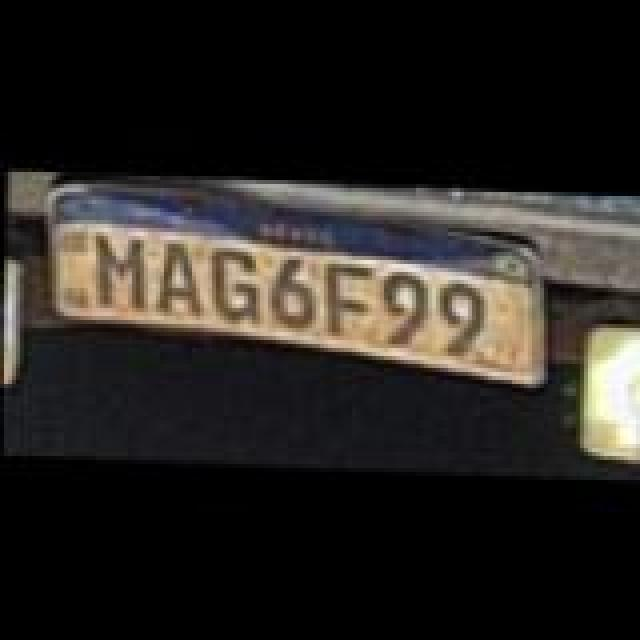6: (262, 246, 322, 322)
9: (432, 272, 492, 348), (376, 266, 436, 342)
A: (150, 236, 210, 312)
F: (320, 256, 380, 332)
G: (202, 238, 270, 318)
M: (90, 228, 158, 312)
